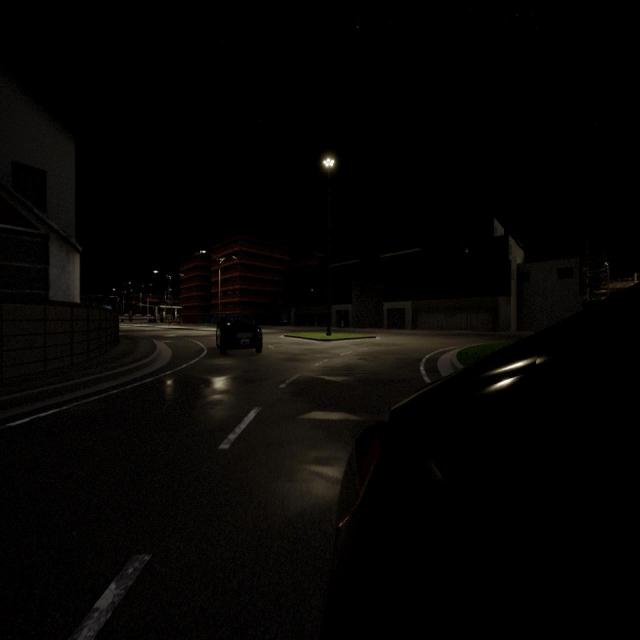Vehicle: (332, 298, 640, 638), (217, 317, 261, 352), (169, 317, 179, 323), (148, 317, 156, 323)
traffic_light: (133, 302, 135, 304)
